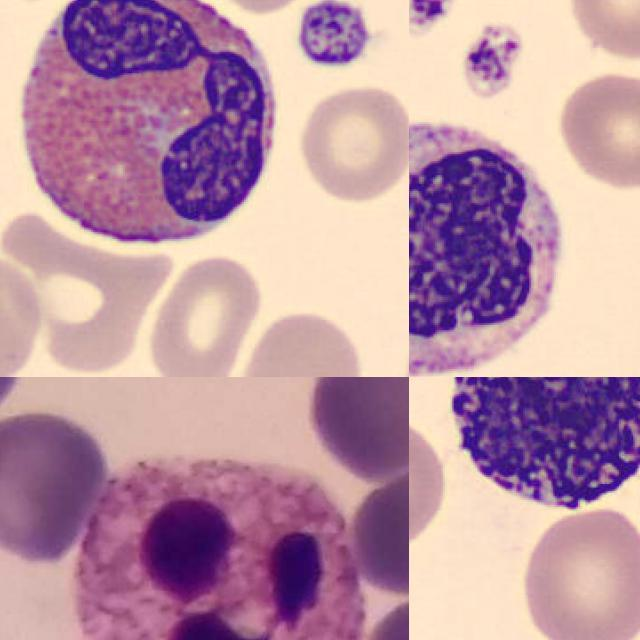Basophil: (432, 377, 640, 519)
Eosinophil: (0, 0, 291, 260)
Monocyte: (409, 103, 578, 377)
Neutrophil: (69, 454, 367, 640)
Platelets: (291, 0, 377, 71), (458, 19, 527, 107), (409, 0, 454, 37)
RBC: (514, 500, 640, 640), (142, 251, 265, 377), (294, 80, 409, 207), (552, 67, 640, 192), (231, 304, 368, 377), (409, 406, 452, 556), (0, 247, 46, 377), (563, 0, 640, 64)
